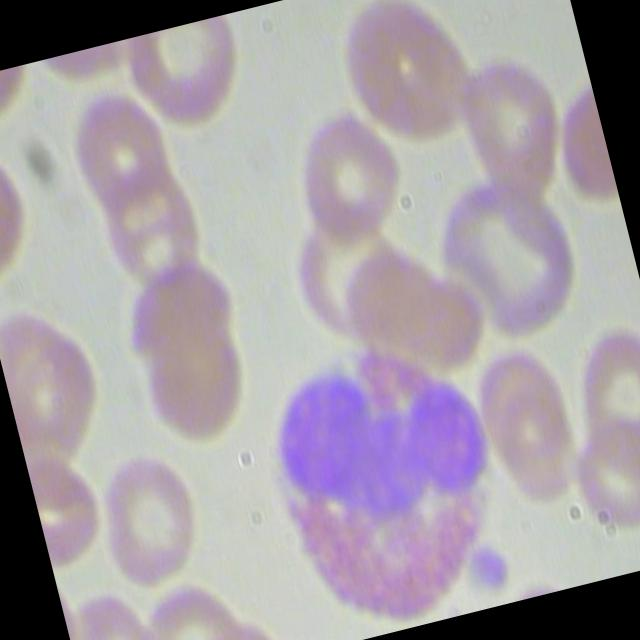RBC: (330, 0, 499, 168), (81, 436, 220, 602), (278, 86, 417, 252), (443, 40, 582, 206), (123, 302, 263, 453), (55, 78, 182, 215), (551, 318, 640, 486), (558, 397, 640, 539)
WBC: (241, 310, 537, 640)
